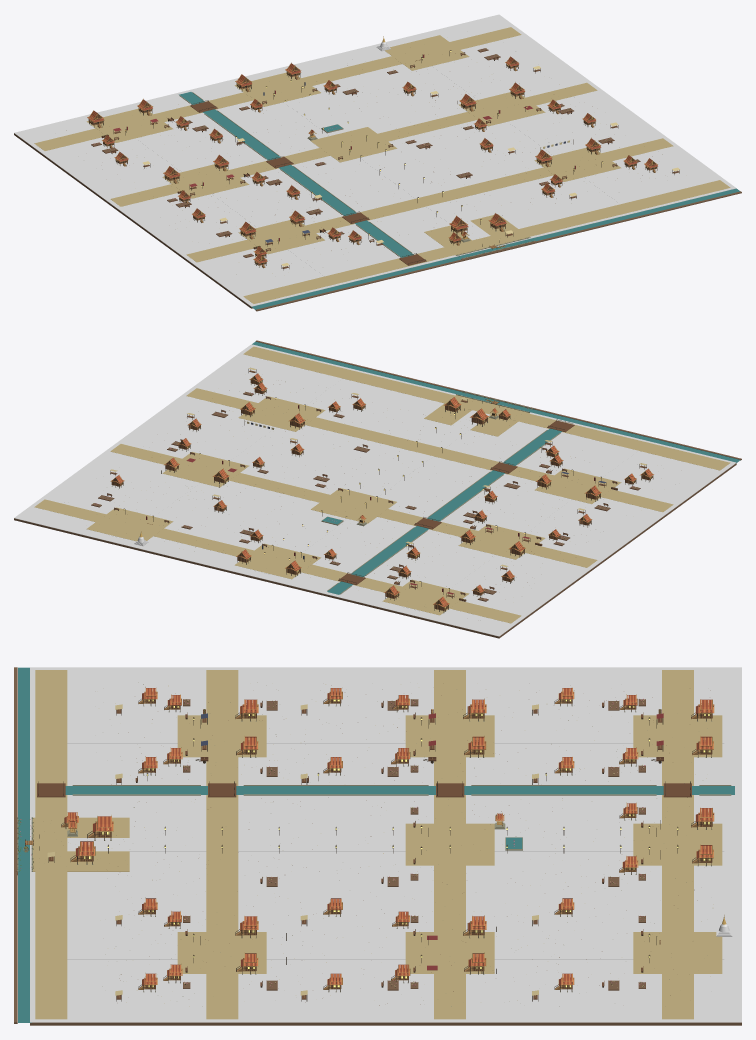
Rendered from bangsai.glb.
3 renders of one model, top to bottom at view 1: azimuth 30°, elevation 25°; view 2: azimuth 150°, elevation 25°; view 3: azimuth 270°, elevation 25°, orthographic. The views are drawn at different scales.
Parts seen in each view (by area): view 1: Expanded ground · meadow, Regional avenues · sand, Regional avenues · paving, City canal · water, River extension · water, District square 4 · sand, District square 6 · sand, District square 7 · sand, District square 1 · sand, District square 3 · sand, District square 2 · sand, District square 0 · sand (+8 smaller); view 2: Expanded ground · meadow, Regional avenues · sand, Regional avenues · paving, City canal · water, Expanded ground · earth, River extension · water, District square 4 · sand, District square 6 · sand, District square 1 · sand, District square 7 · sand, District square 2 · sand, District square 5 · sand (+8 smaller); view 3: Expanded ground · meadow, Regional avenues · sand, Regional avenues · paving, City canal · water, District square 4 · sand, District square 6 · sand, River extension · water, District square 7 · sand, District square 1 · sand, District square 0 · sand, District square 5 · sand, District square 2 · sand (+8 smaller).
Boxes of the visible parts, x1=… form: Expanded ground · meadow: x1=14, y1=14, x2=736, y2=306; Regional avenues · sand: x1=34, y1=27, x2=730, y2=303; Regional avenues · paving: x1=105, y1=39, x2=638, y2=276; City canal · water: x1=179, y1=92, x2=413, y2=257; River extension · water: x1=251, y1=188, x2=739, y2=309; District square 4 · sand: x1=310, y1=127, x2=397, y2=162; District square 6 · sand: x1=385, y1=35, x2=469, y2=70; District square 7 · sand: x1=234, y1=72, x2=320, y2=106; District square 1 · sand: x1=534, y1=147, x2=620, y2=181; District square 3 · sand: x1=458, y1=92, x2=545, y2=126; District square 2 · sand: x1=162, y1=164, x2=249, y2=198; District square 0 · sand: x1=238, y1=220, x2=324, y2=254; Expanded ground · meadow: x1=14, y1=344, x2=736, y2=636; Regional avenues · sand: x1=34, y1=346, x2=730, y2=623; Regional avenues · paving: x1=105, y1=374, x2=638, y2=610; City canal · water: x1=327, y1=428, x2=561, y2=594; Expanded ground · earth: x1=14, y1=463, x2=736, y2=638; River extension · water: x1=252, y1=341, x2=740, y2=463; District square 4 · sand: x1=311, y1=488, x2=396, y2=523; District square 6 · sand: x1=86, y1=507, x2=173, y2=541; District square 1 · sand: x1=238, y1=396, x2=325, y2=431; District square 7 · sand: x1=234, y1=543, x2=321, y2=579; District square 2 · sand: x1=458, y1=524, x2=545, y2=559; District square 5 · sand: x1=382, y1=579, x2=469, y2=615; Expanded ground · meadow: x1=30, y1=667, x2=741, y2=1022; Regional avenues · sand: x1=35, y1=670, x2=693, y2=1019; Regional avenues · paving: x1=67, y1=729, x2=724, y2=959; City canal · water: x1=65, y1=786, x2=734, y2=794; District square 4 · sand: x1=405, y1=823, x2=494, y2=865; District square 6 · sand: x1=633, y1=932, x2=722, y2=973; River extension · water: x1=18, y1=667, x2=31, y2=1022; District square 7 · sand: x1=633, y1=823, x2=722, y2=865; District square 1 · sand: x1=177, y1=932, x2=266, y2=973; District square 0 · sand: x1=177, y1=715, x2=266, y2=757; District square 5 · sand: x1=633, y1=715, x2=722, y2=757; District square 2 · sand: x1=405, y1=715, x2=494, y2=757.
Size of the model in its own units: 236 by 8.04 by 204.
